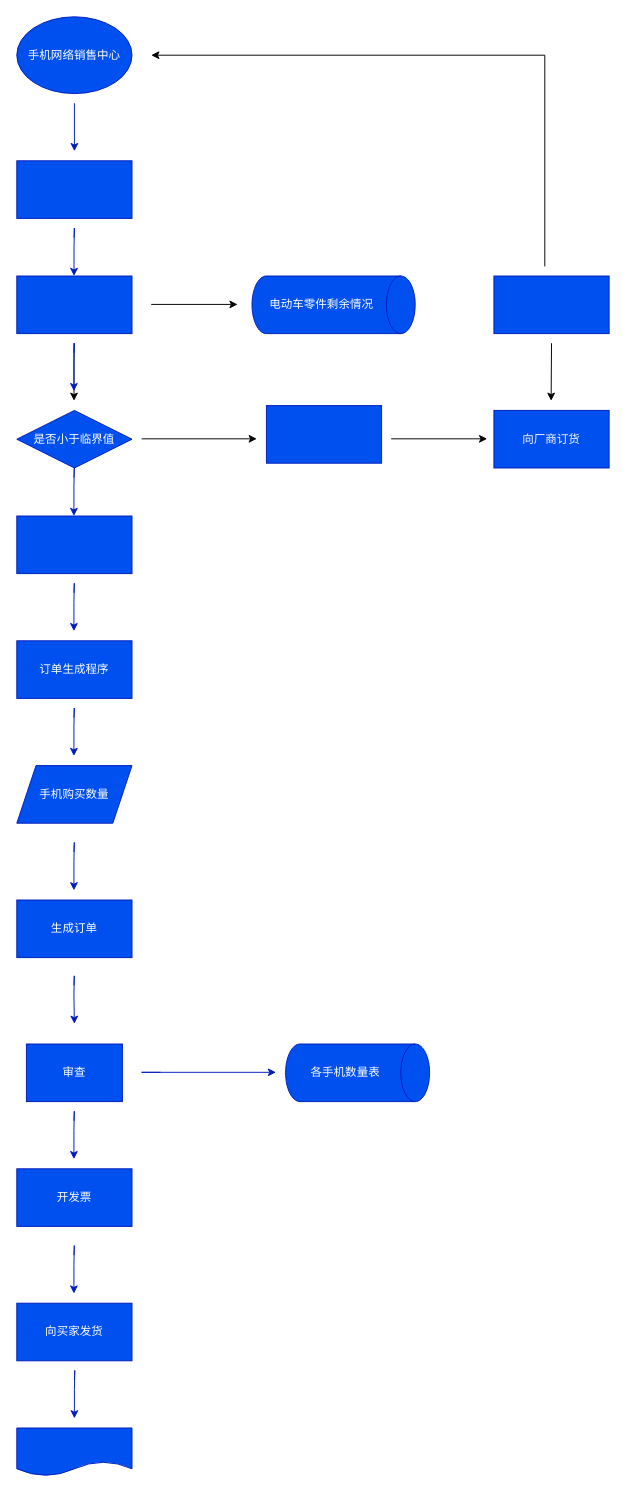
This 626x1493 diagram has some shape labels left out. The shapes that lost their labels are listed below. From the top down, each one's centre as x and y in pixels, then its label:
pixel 74 189: 手机购买订单
pixel 74 304: 电动车库存情况
pixel 551 304: 厂商发货
pixel 323 434: 电动车租赁订单作废
pixel 74 544: 收到买家费用
pixel 74 1451: 生成订货报告
